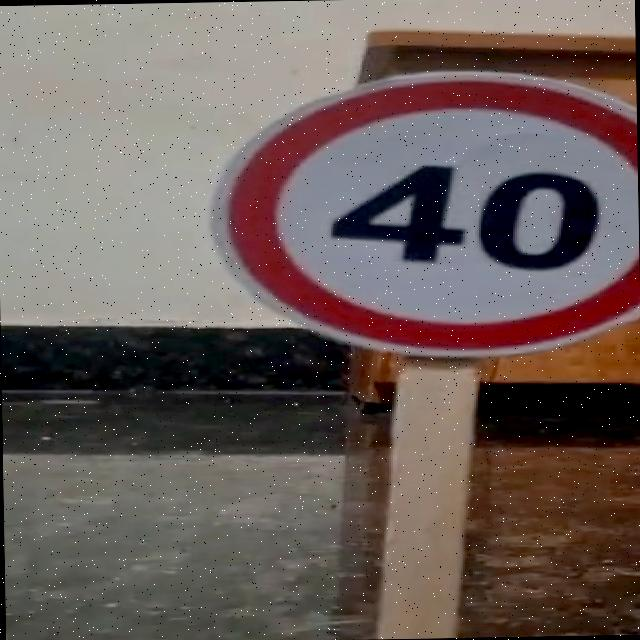Speed40: (195, 57, 640, 369)
